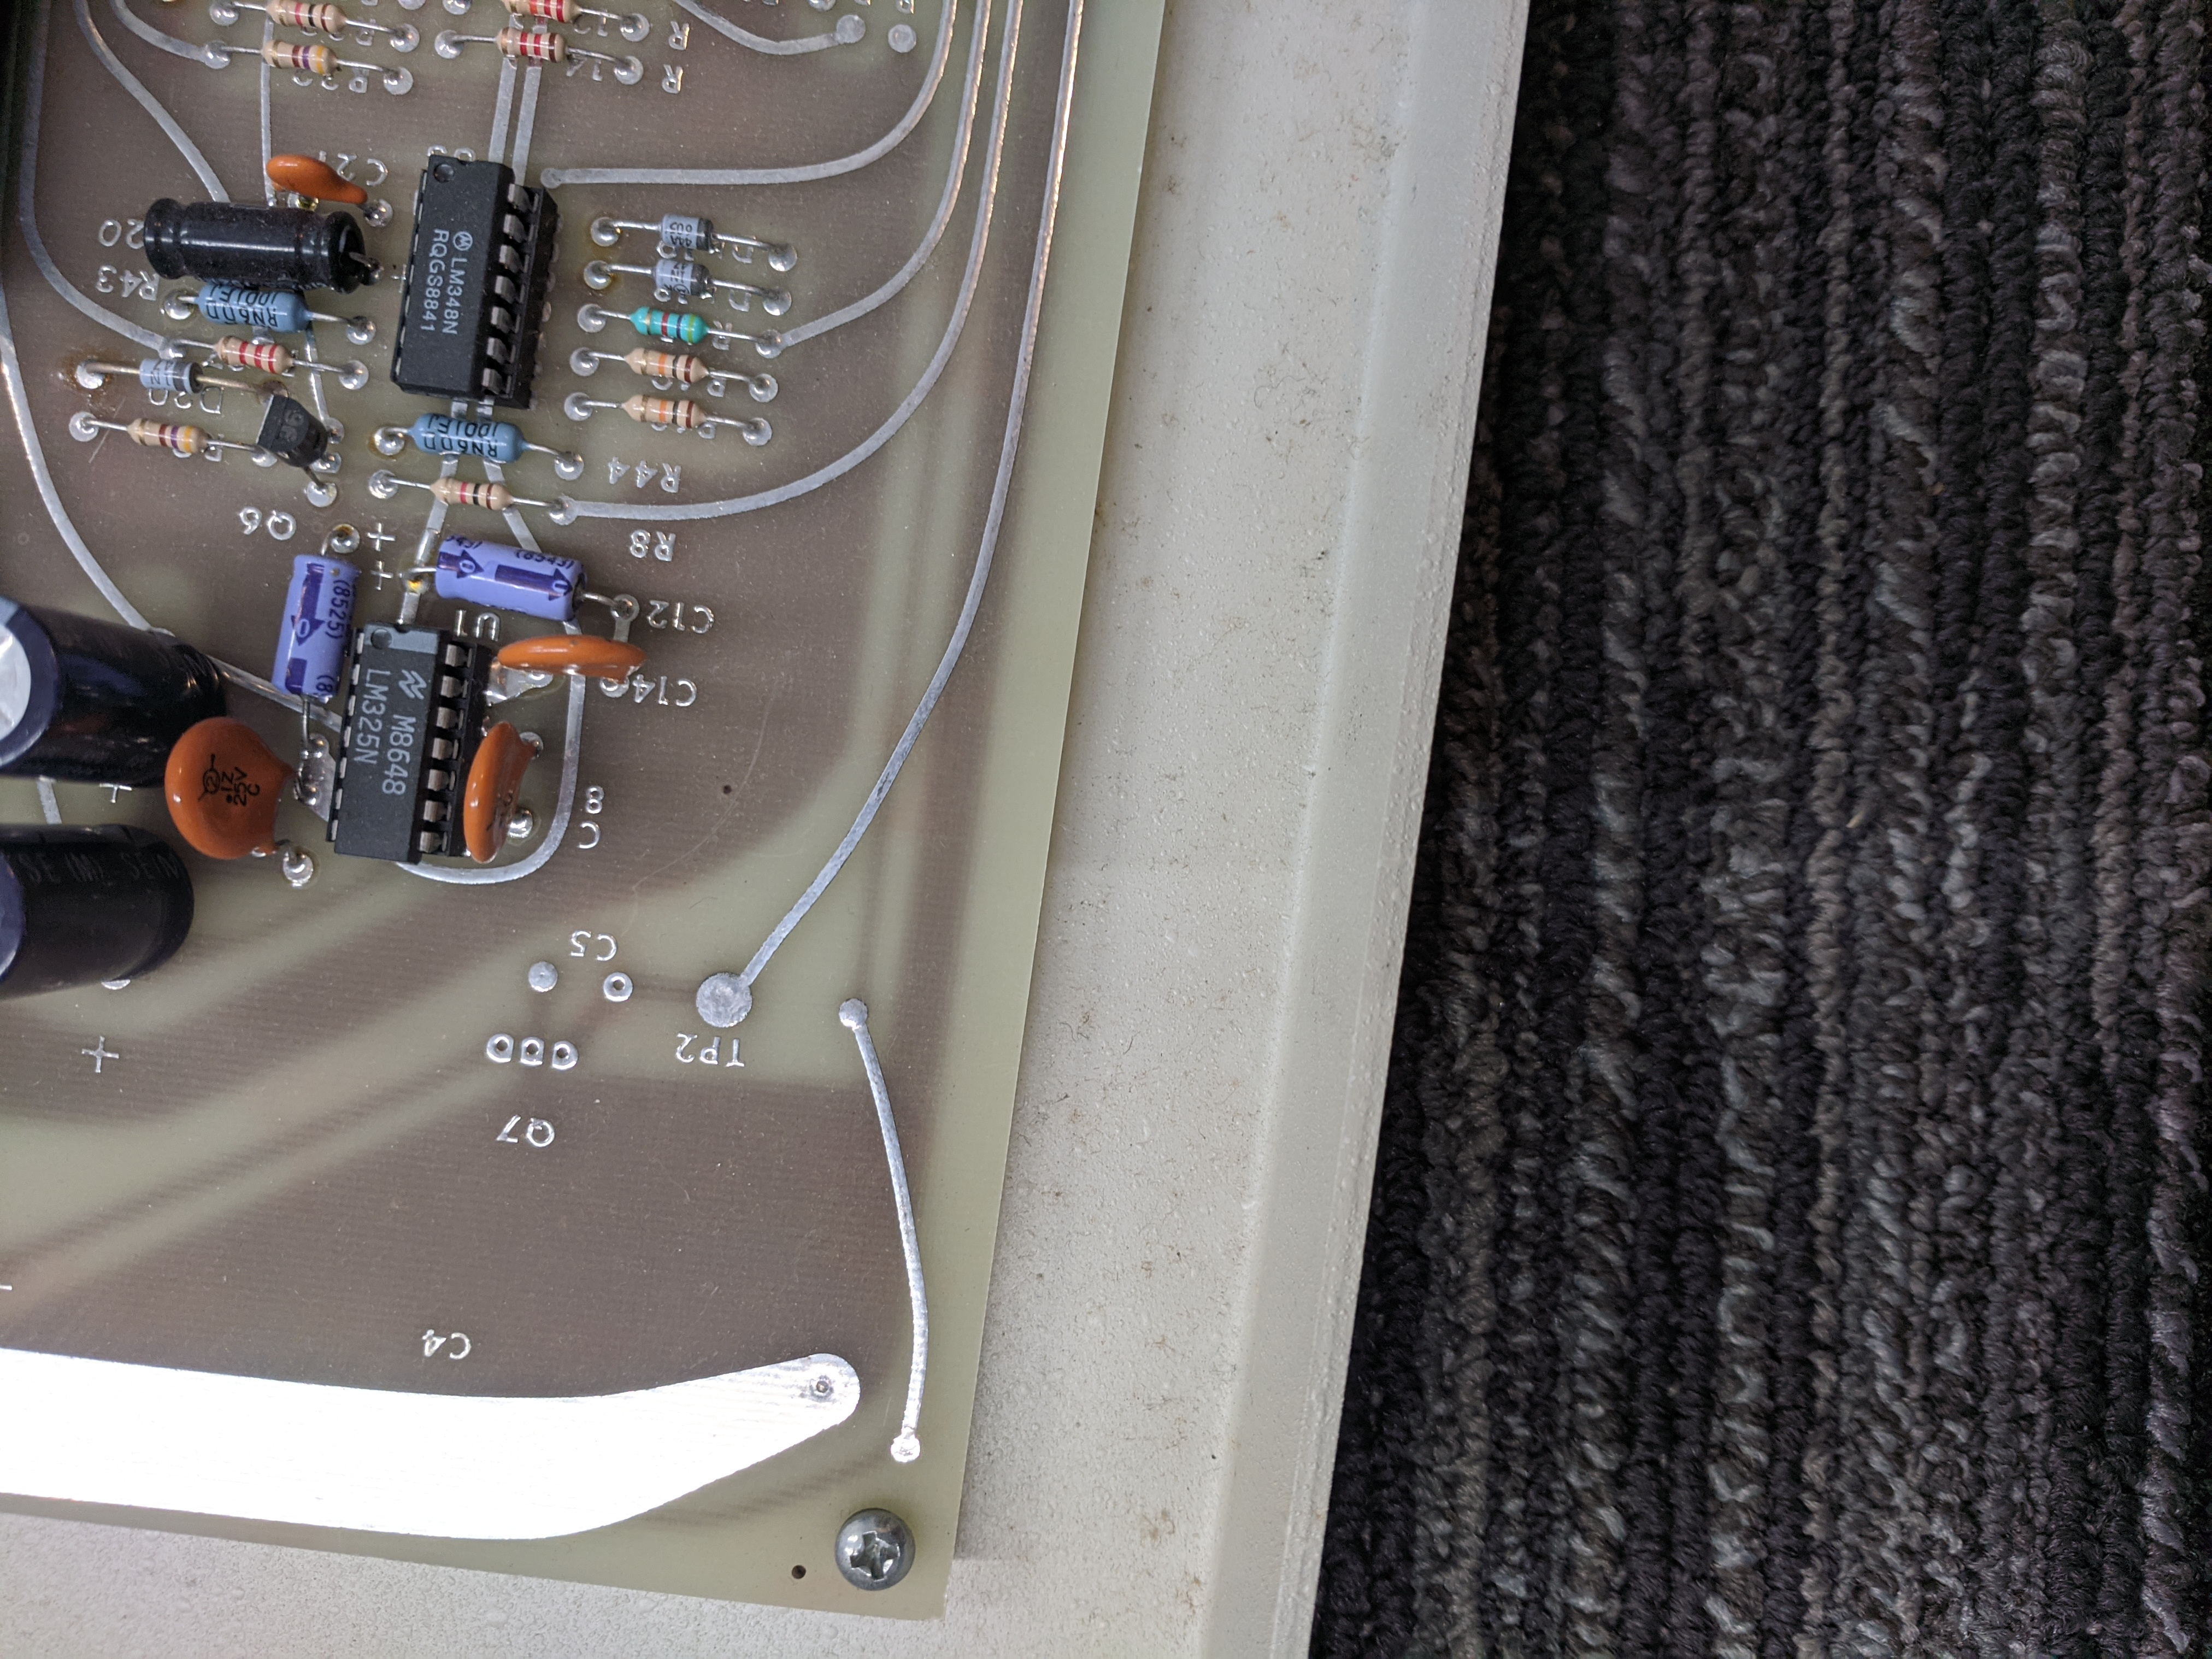cross_recessed_screw: (827, 1504, 920, 1589)
